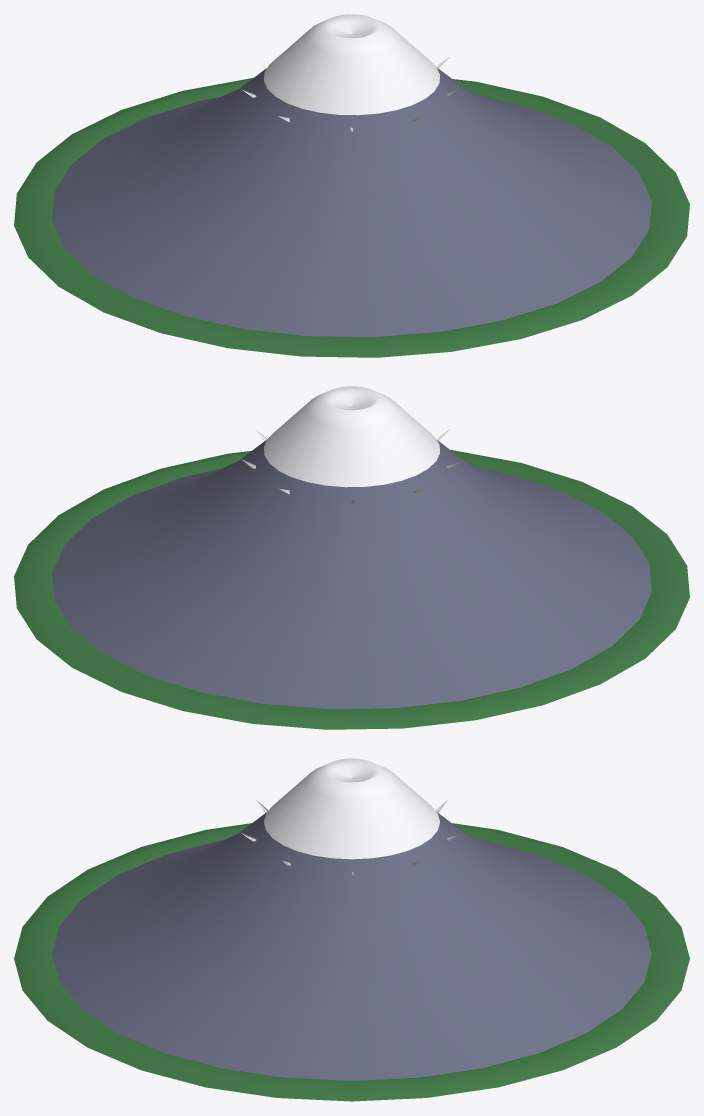
The picture shows the model from 3 angles, top to bottom: view 1: azimuth 30°, elevation 25°; view 2: azimuth 150°, elevation 25°; view 3: azimuth 270°, elevation 25°; orthographic projection.
Bounding box in the file's own units: 480 × 147 × 480.
